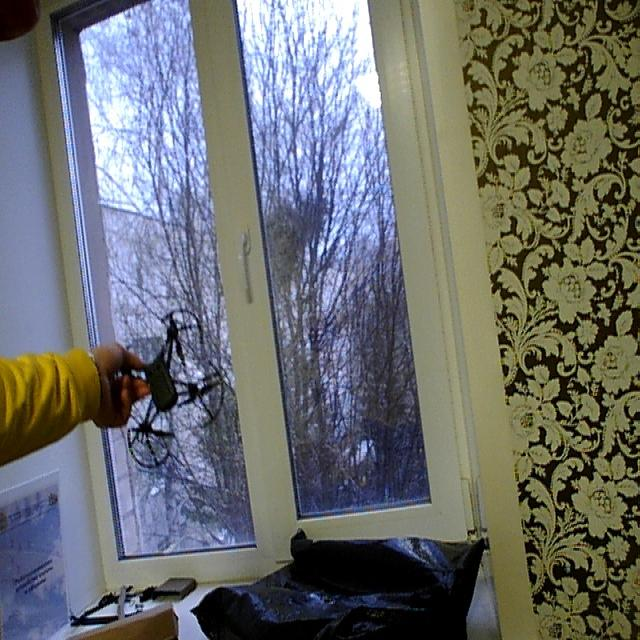drone: (93, 294, 227, 476)
